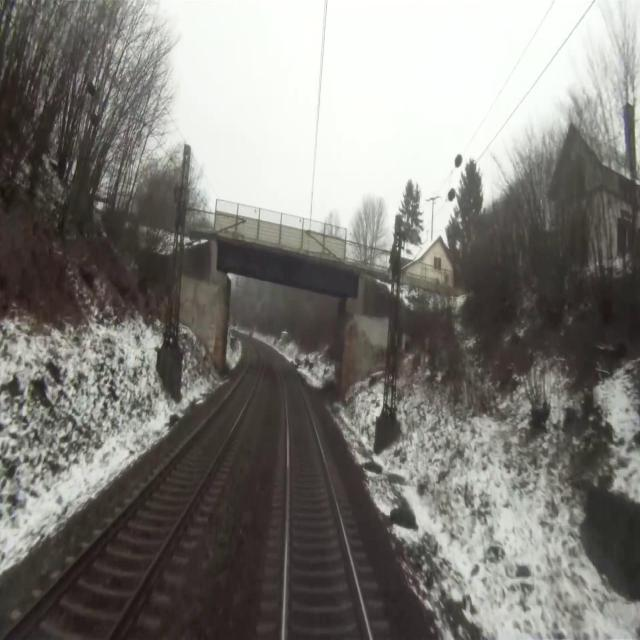rail-track: (4, 341, 258, 639), (270, 352, 368, 639)
